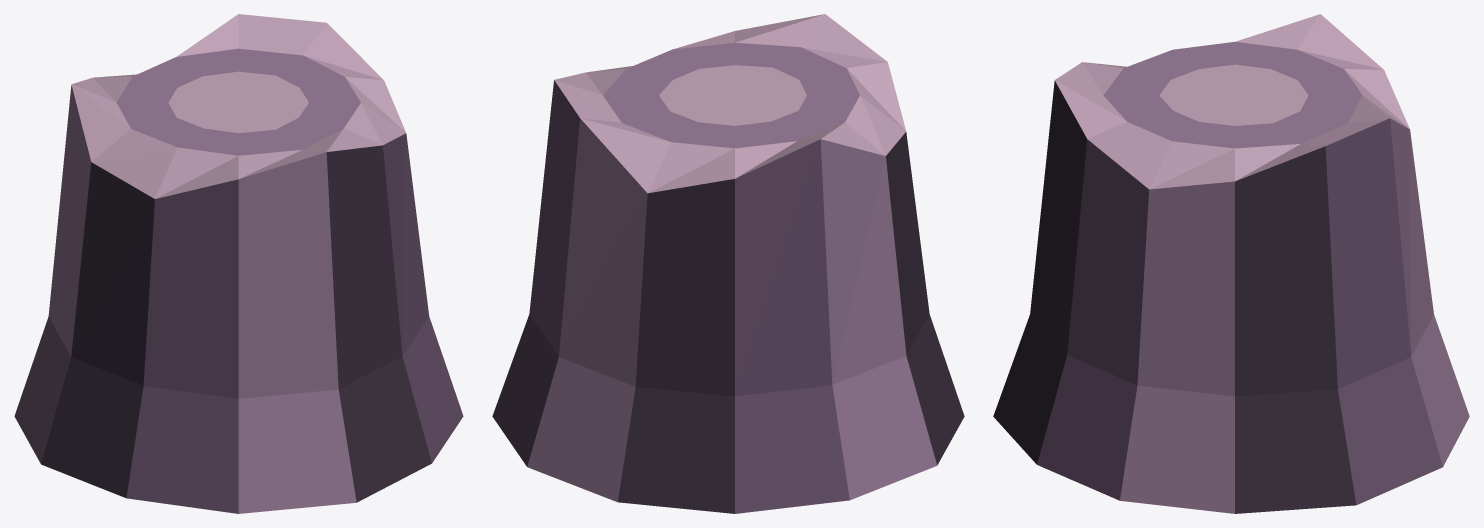
File: TW_STUMP_BROKEN_A_LOD0.glb
The picture shows the model from 3 angles, left to right: view 1: azimuth 30°, elevation 25°; view 2: azimuth 150°, elevation 25°; view 3: azimuth 270°, elevation 25°; orthographic projection. The views are drawn at different scales.
Parts seen in each view (by area): view 1: TW_STUMP_BROKEN_A_LOD0; view 2: TW_STUMP_BROKEN_A_LOD0; view 3: TW_STUMP_BROKEN_A_LOD0.
Part boxes in pixels (left/top/right/bottom): TW_STUMP_BROKEN_A_LOD0: left=14, top=14, right=463, bottom=513; TW_STUMP_BROKEN_A_LOD0: left=492, top=14, right=964, bottom=513; TW_STUMP_BROKEN_A_LOD0: left=993, top=14, right=1469, bottom=513.
Size of the model in its own units: 1.01 by 0.82 by 1.04.
1 material, 1 textured.
